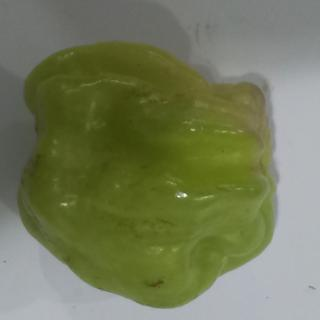Grade-A: (12, 32, 285, 311)
